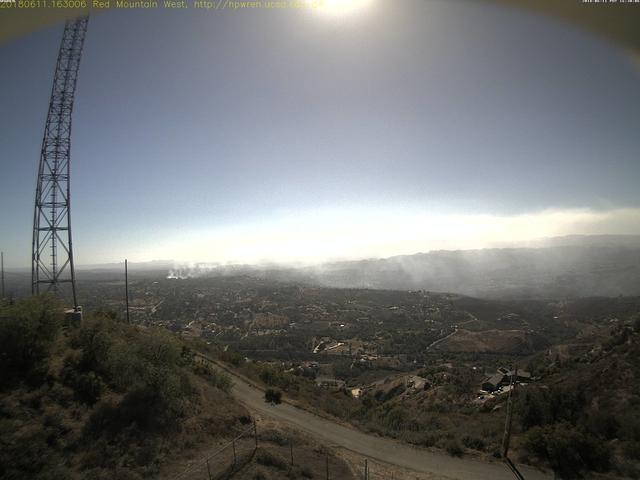smoke: (167, 258, 447, 292)
